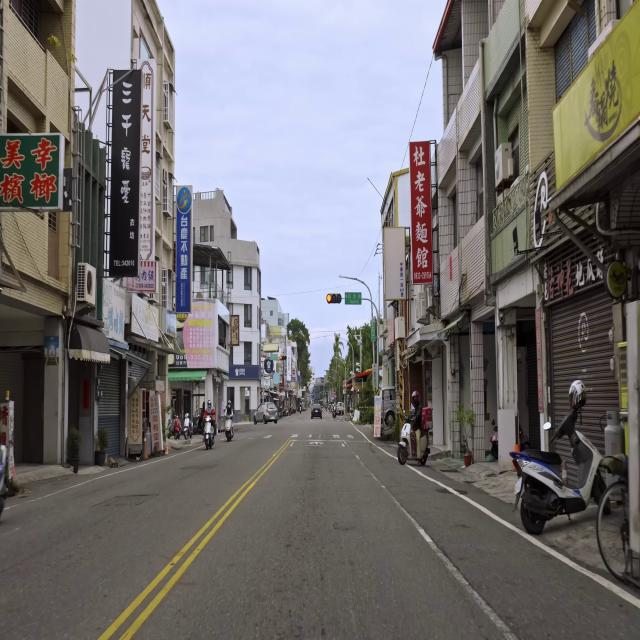red light: (326, 293, 342, 304), (279, 355, 287, 360)
